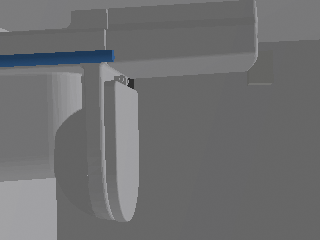lid_1: (104, 80, 138, 221)
